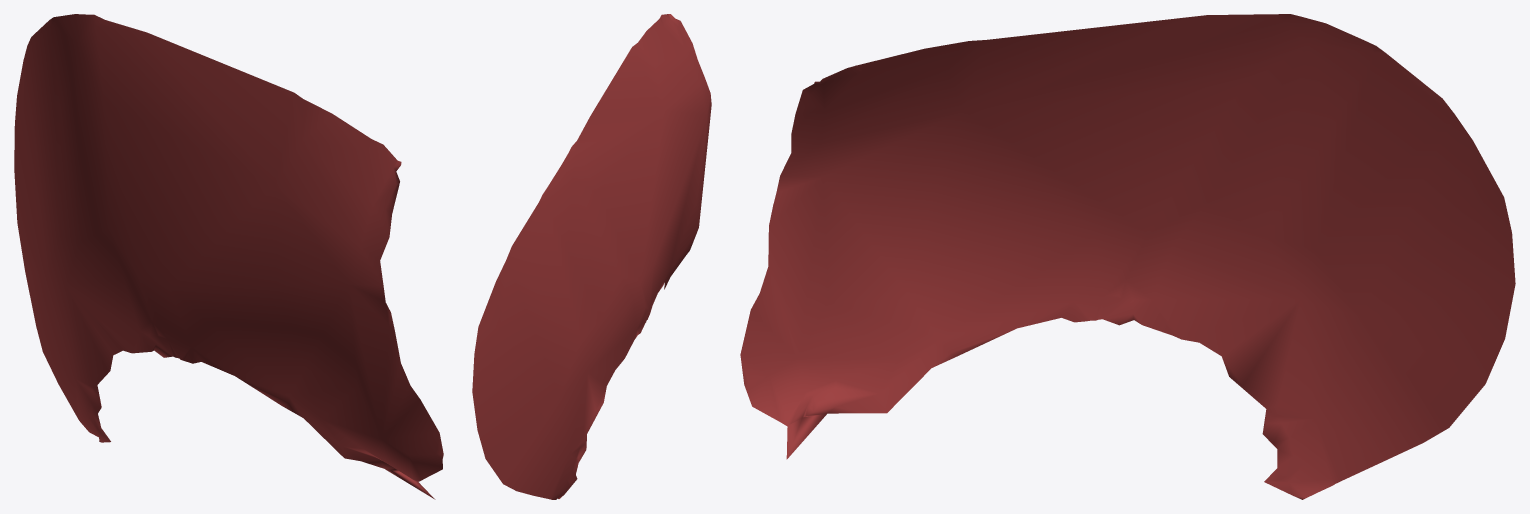
Rendered from temporalis-muscle-o2r.glb.
The picture shows the model from 3 angles, left to right: view 1: azimuth 30°, elevation 25°; view 2: azimuth 150°, elevation 25°; view 3: azimuth 270°, elevation 25°; orthographic projection. The views are drawn at different scales.
Parts seen in each view (by area): view 1: Temporalis muscle.o2r; view 2: Temporalis muscle.o2r; view 3: Temporalis muscle.o2r.
Boxes of the visible parts, x1,y1,x2,y2 form: Temporalis muscle.o2r: (14, 14, 443, 499); Temporalis muscle.o2r: (472, 14, 711, 499); Temporalis muscle.o2r: (740, 14, 1515, 499).
Bounding box in the file's own units: 0.0207 × 0.0623 × 0.0896.
